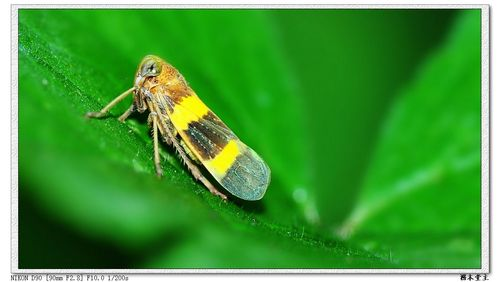Cicadellidae: (90, 54, 270, 202)
